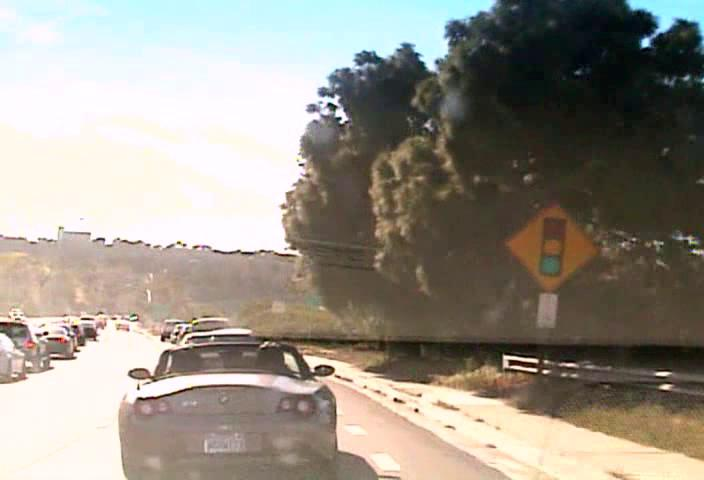signalAhead: (503, 199, 598, 291)
